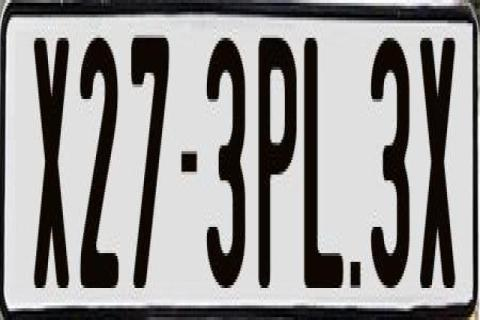0: (131, 35, 175, 291), (207, 29, 250, 288), (371, 32, 414, 282), (78, 35, 119, 297)
L: (303, 29, 346, 294)
P: (257, 38, 298, 306)
X: (420, 29, 460, 285), (34, 38, 70, 302)
